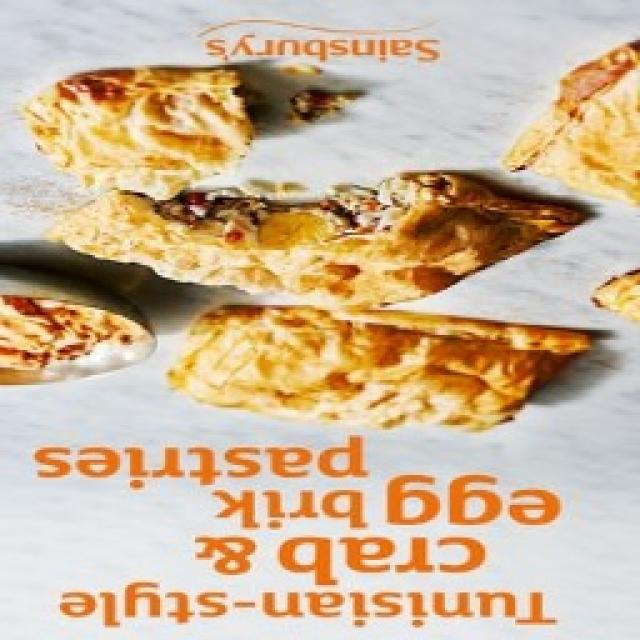Brik: (25, 69, 586, 310), (169, 308, 584, 431)
